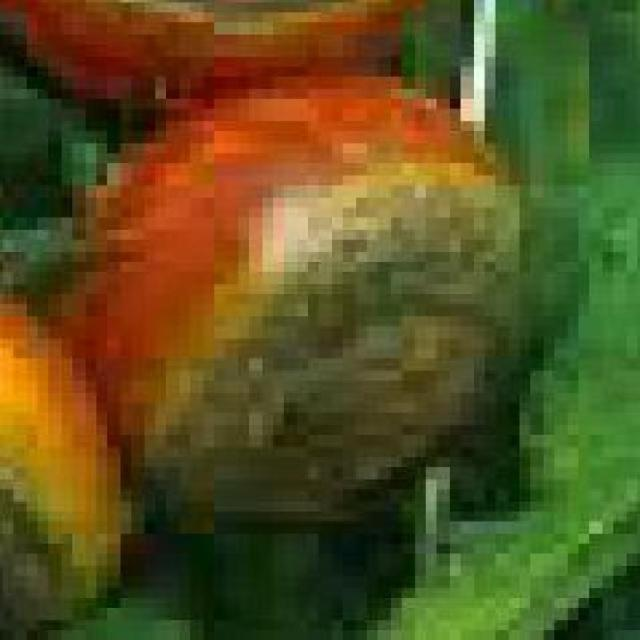Blossom End Rot Fruit: (30, 12, 255, 357)
